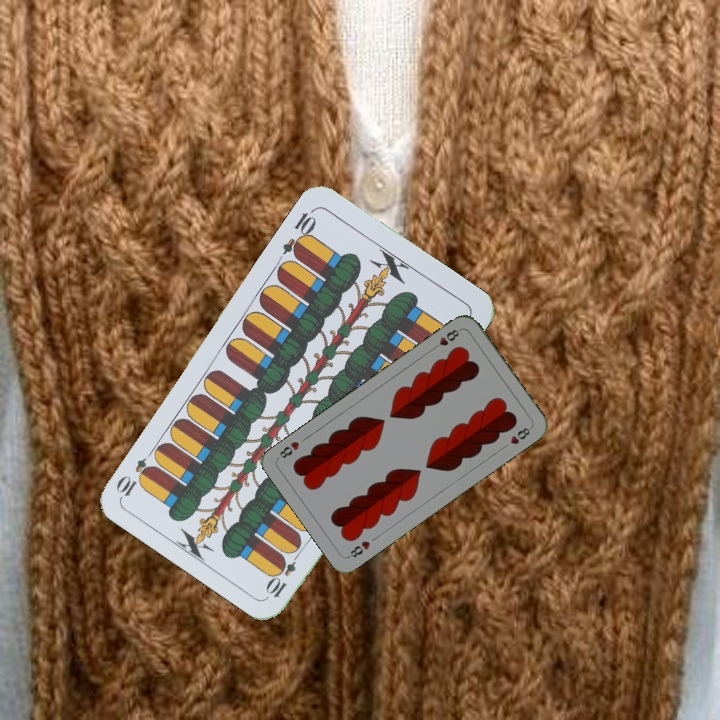E10: (278, 204, 320, 261), (263, 545, 304, 601)
H8: (428, 325, 464, 353), (344, 537, 373, 561)
